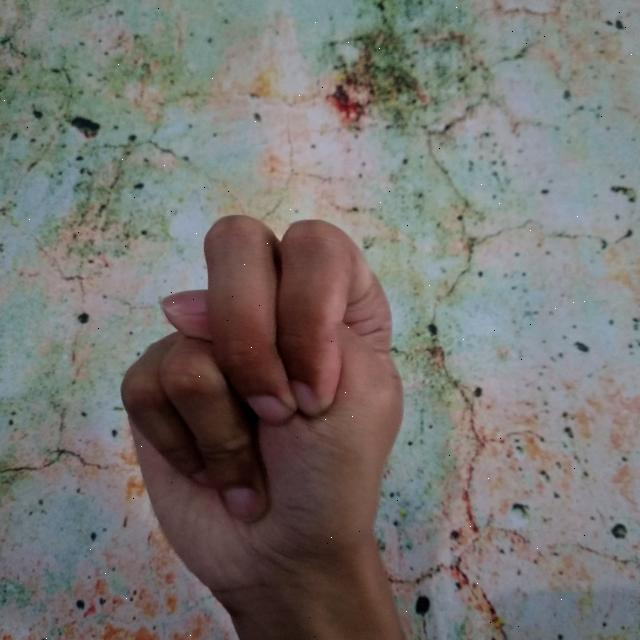N: (116, 206, 427, 640)
